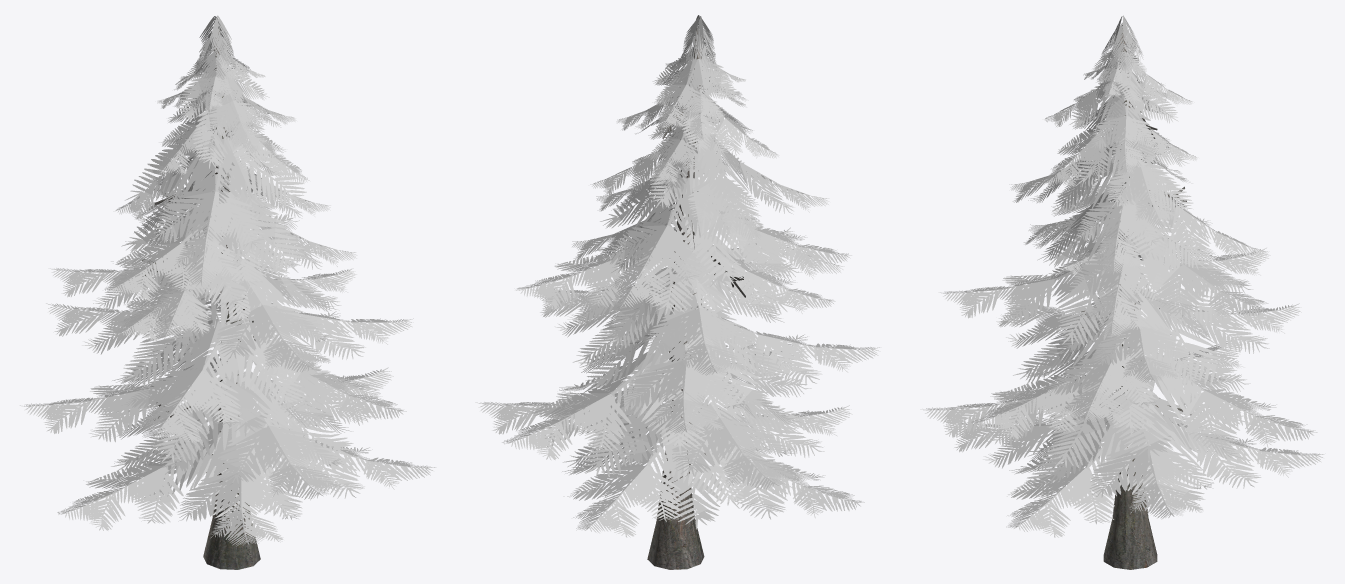
Rendered from PineTree_merged.fbx.
The picture shows the model from 3 angles, left to right: view 1: azimuth 30°, elevation 25°; view 2: azimuth 150°, elevation 25°; view 3: azimuth 270°, elevation 25°; orthographic projection. The views are drawn at different scales.
Visible parts, largest first — view 1: PineTree; view 2: PineTree; view 3: PineTree.
Boxes of the visible parts, x1,y1,x2,y2 form: PineTree: (19, 15, 436, 569); PineTree: (475, 15, 880, 569); PineTree: (920, 15, 1324, 569).
Bounding box in the file's own units: 217 × 308 × 217.
